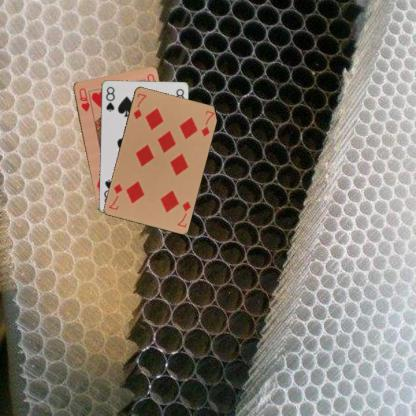7d: (130, 90, 148, 120), (174, 198, 192, 228)
8s: (104, 84, 116, 112)
Qh: (76, 86, 91, 112)
